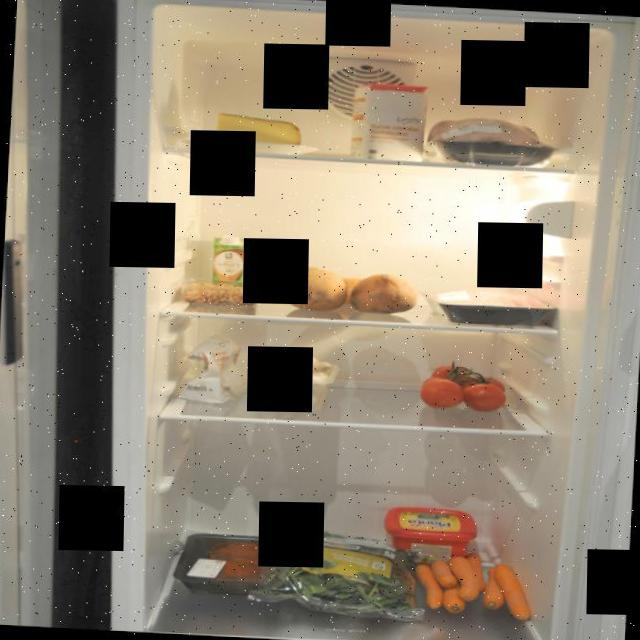Carne pollo: (422, 113, 558, 168)
Carne vacuno: (170, 530, 294, 596), (414, 283, 559, 329)
Champiñones: (251, 346, 339, 409)
Gambas/Langostinos: (182, 280, 256, 306)
Mantequilla: (379, 503, 478, 565)
Queso: (208, 108, 306, 150)
Tomate: (416, 356, 510, 414)
Zanahoria: (410, 548, 540, 622)
flour: (178, 329, 253, 407)
heavy_cream: (209, 232, 247, 297)
spinach: (250, 530, 425, 630)
sugar: (350, 80, 430, 162)
sweet_potato: (278, 262, 418, 318)
